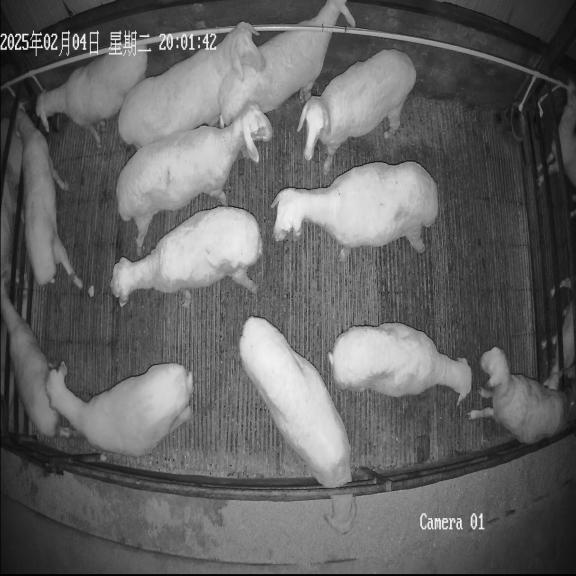drinking: (16, 101, 82, 288), (36, 52, 147, 144)
eating: (239, 317, 356, 534)
stand: (116, 105, 272, 252), (118, 22, 264, 149), (218, 0, 355, 127), (271, 161, 438, 260), (110, 206, 262, 307), (298, 49, 416, 174), (46, 363, 193, 456), (329, 323, 471, 402), (1, 282, 72, 437), (469, 347, 567, 444)
